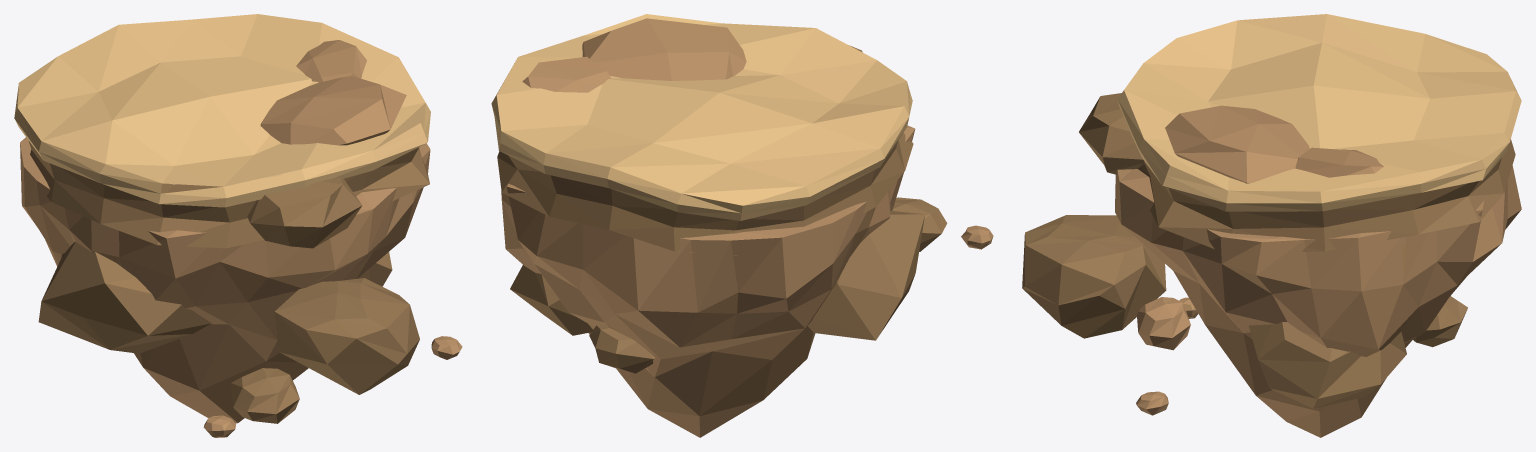
The model's file is desert road.fbx.
The picture shows the model from 3 angles, left to right: view 1: azimuth 30°, elevation 25°; view 2: azimuth 150°, elevation 25°; view 3: azimuth 270°, elevation 25°; orthographic projection. The views are drawn at different scales.
Visible parts, largest first — view 1: terrain_terrain_0.002; view 2: terrain_terrain_0.002; view 3: terrain_terrain_0.002.
Part boxes in pixels (<box>): terrain_terrain_0.002: <box>14,14,462,437</box>; terrain_terrain_0.002: <box>491,14,993,437</box>; terrain_terrain_0.002: <box>1022,14,1521,437</box>.
Size of the model in its own units: 363 by 321 by 416.
